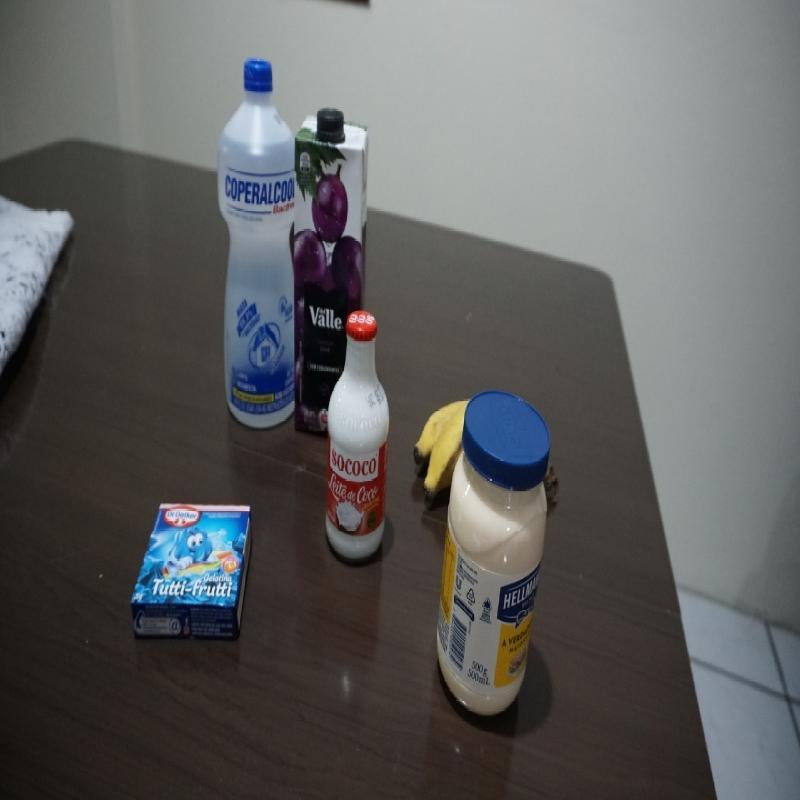Alcohol Bottle: (217, 56, 297, 432)
Banana: (413, 394, 468, 512)
Coconut Milk: (324, 308, 393, 564)
Gelatine: (129, 503, 256, 636)
Mayonnaise: (436, 387, 554, 722)
